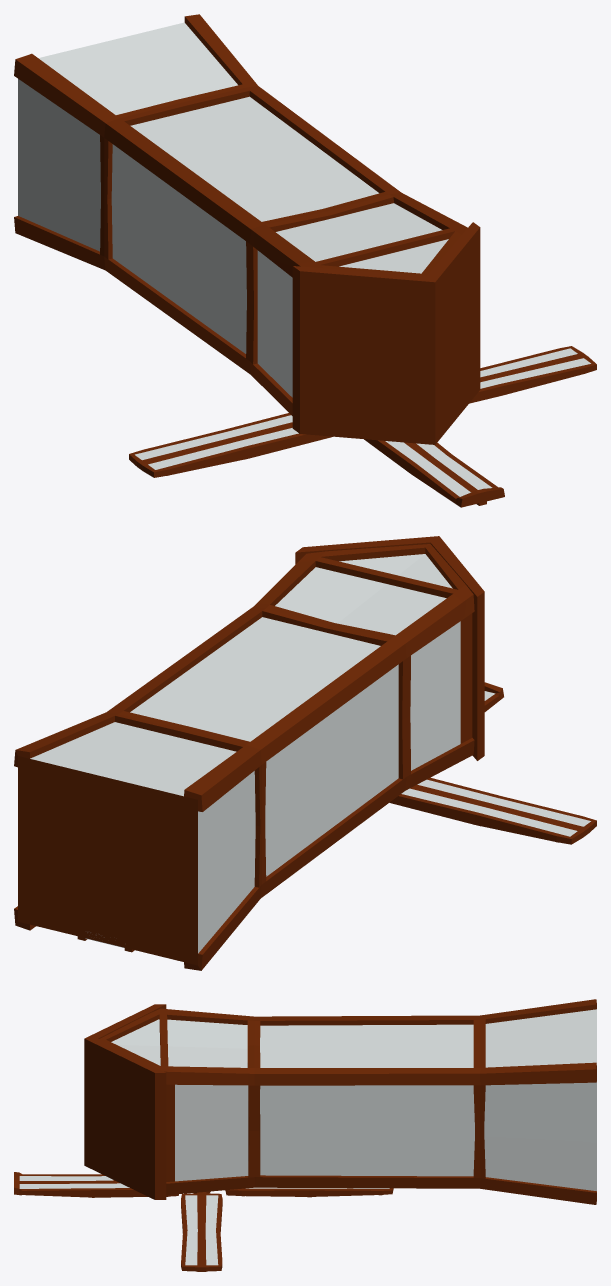
File: Windmill.fbx
The picture shows the model from 3 angles, top to bottom: view 1: azimuth 30°, elevation 25°; view 2: azimuth 150°, elevation 25°; view 3: azimuth 270°, elevation 25°; orthographic projection. The views are drawn at different scales.
Parts seen in each view (by area): view 1: Windmill, Windmill.001; view 2: Windmill, Windmill.001; view 3: Windmill, Windmill.001.
Boxes of the visible parts, box(x1,y1,x2,y2) form: Windmill: box(14, 14, 480, 444); Windmill.001: box(129, 346, 596, 507); Windmill: box(14, 536, 484, 970); Windmill.001: box(389, 682, 596, 844); Windmill: box(84, 999, 596, 1204); Windmill.001: box(14, 1172, 393, 1271).
Bounding box in the file's own units: 9.82 × 4.26 × 14.24.
